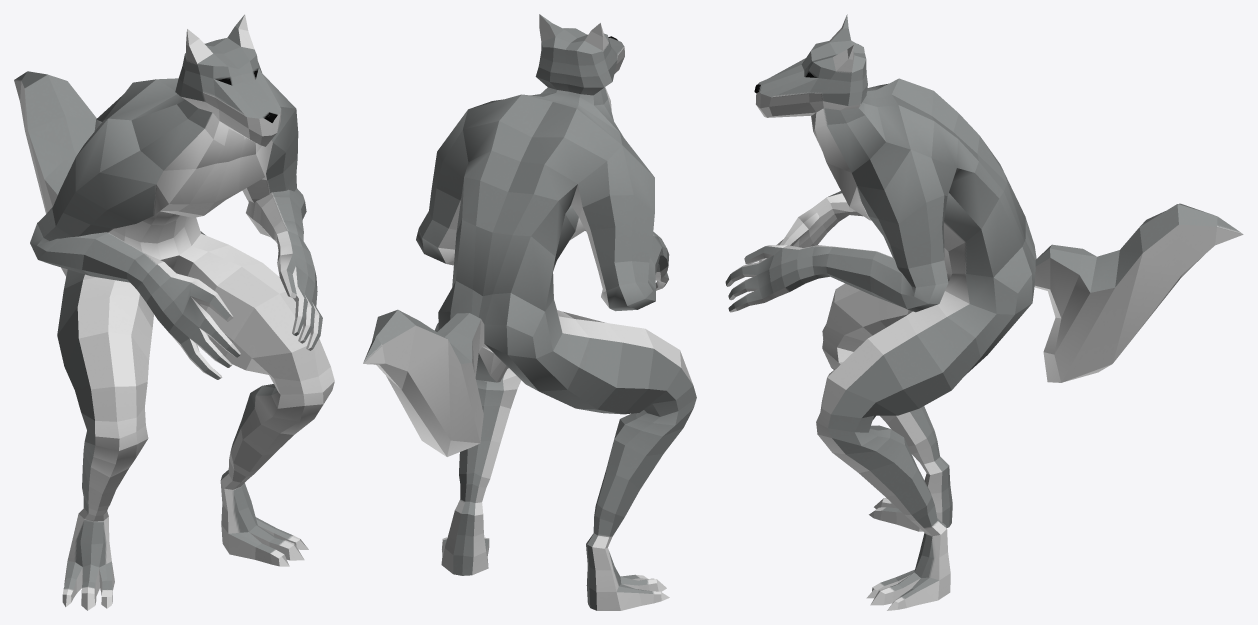
Rendered from WolfIdle_(8).obj.
3 renders of one model, left to right at view 1: azimuth 30°, elevation 25°; view 2: azimuth 150°, elevation 25°; view 3: azimuth 270°, elevation 25°, orthographic. The views are drawn at different scales.
Parts seen in each view (by area): view 1: Box001; view 2: Box001; view 3: Box001.
Part boxes in pixels (bbox=[...]): Box001: bbox=[14, 14, 334, 610]; Box001: bbox=[363, 14, 696, 610]; Box001: bbox=[725, 14, 1243, 610].
Size of the model in its own units: 61.57 by 131 by 115.
